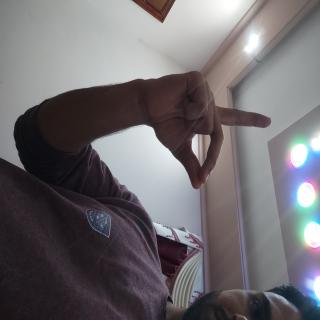TAA: (46, 61, 148, 242)
